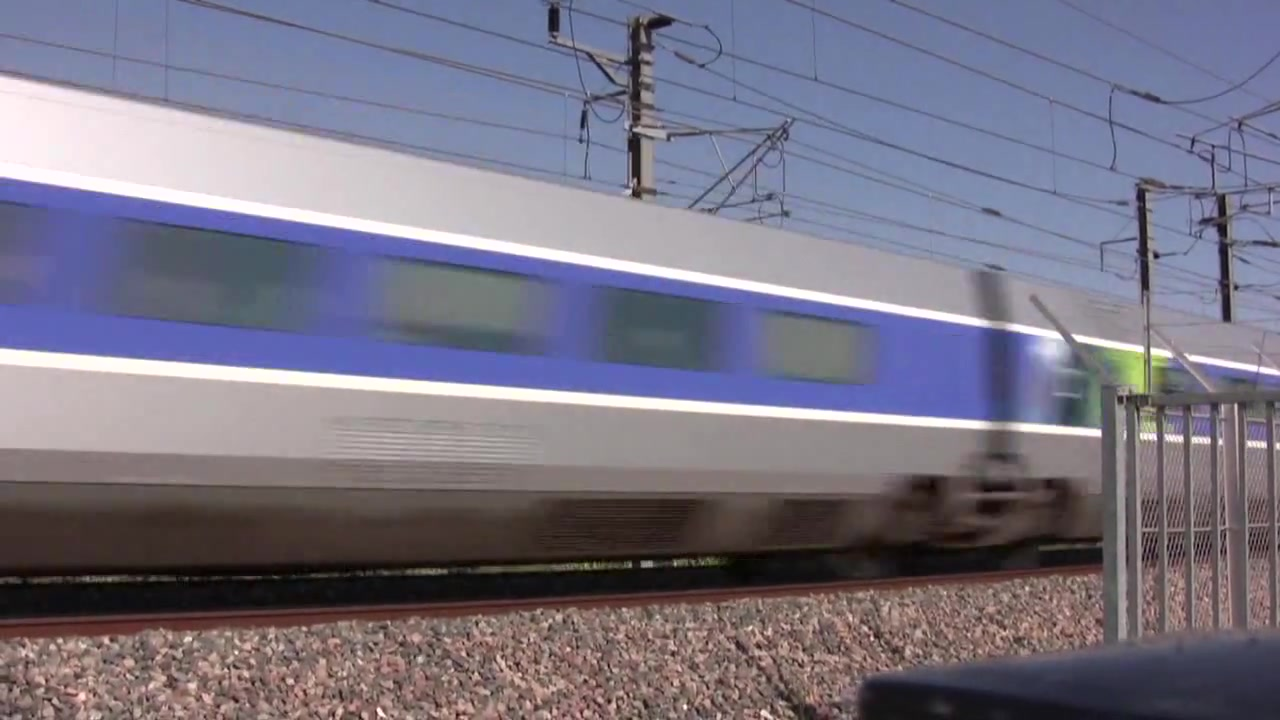train: (1, 62, 1280, 579)
